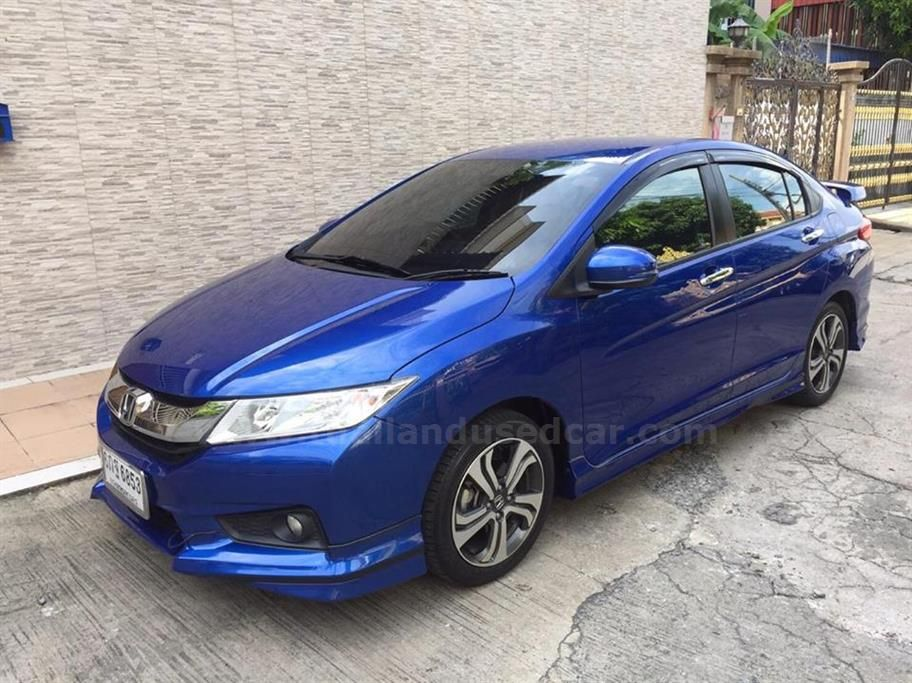sedan: (89, 136, 878, 606)
